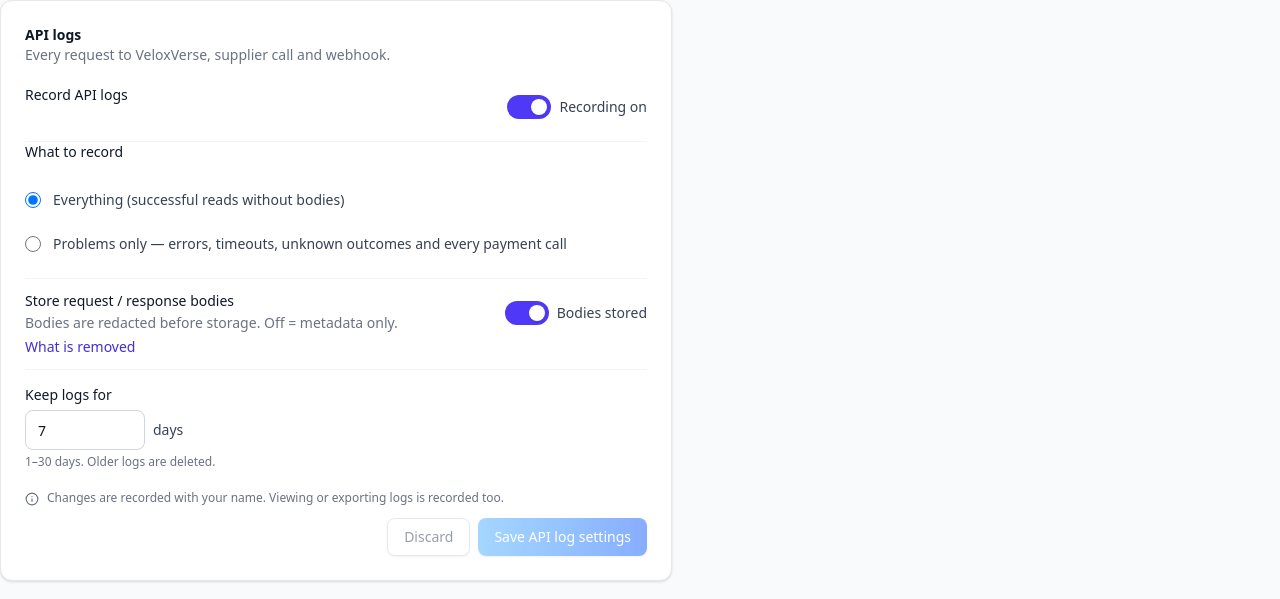
Test: ApiLogSettingsCard › shows the retention field error from a 400 under the field
Replace the text in the number field labelled "Keep logs for" with "20". click: (85,430)
box: [25, 410, 145, 450]
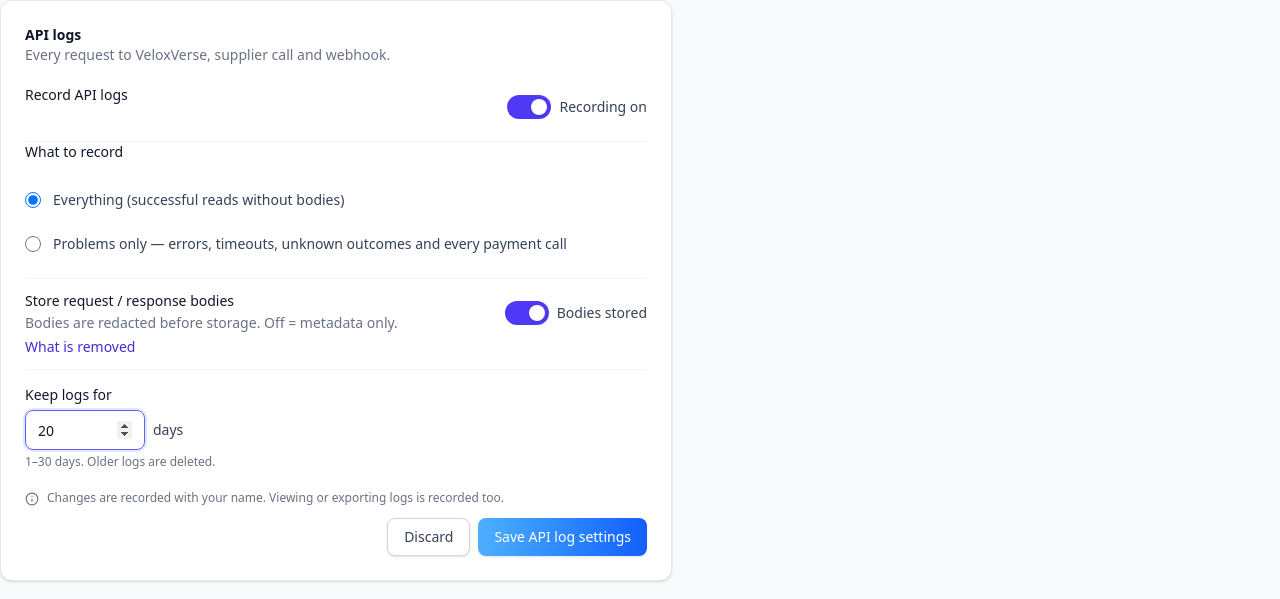
Click the button "Save API log settings". click: (563,537)
box: [478, 518, 647, 556]
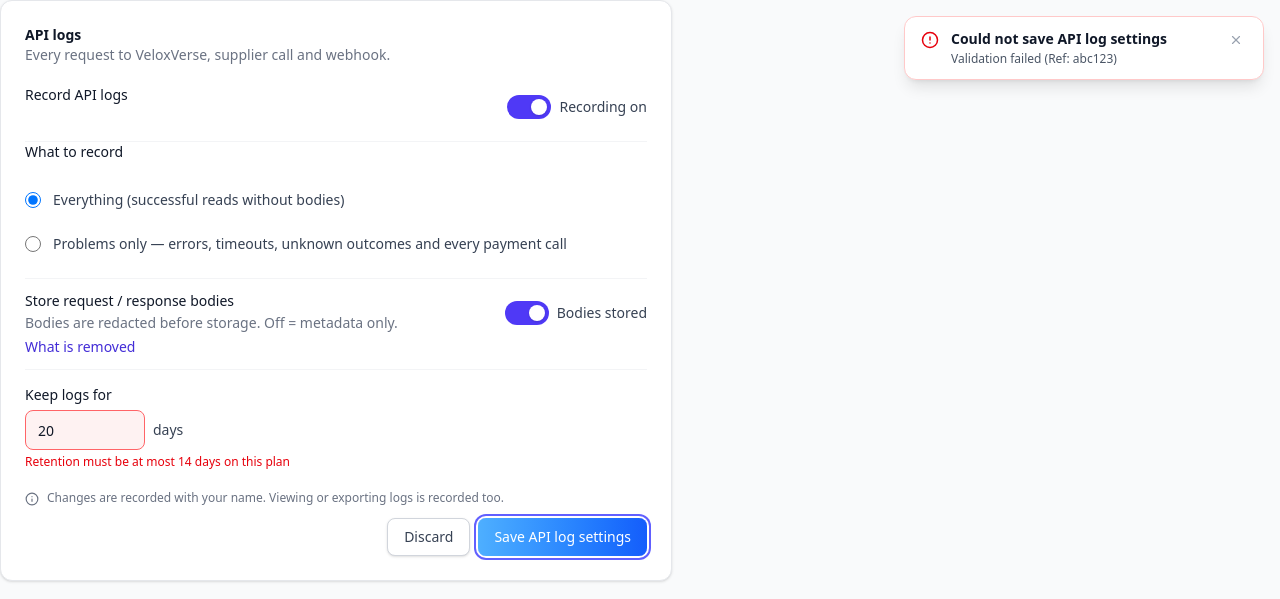
Expected: the text "Retention must be at most 14 days on this plan" is shown, [25, 453, 290, 470]
